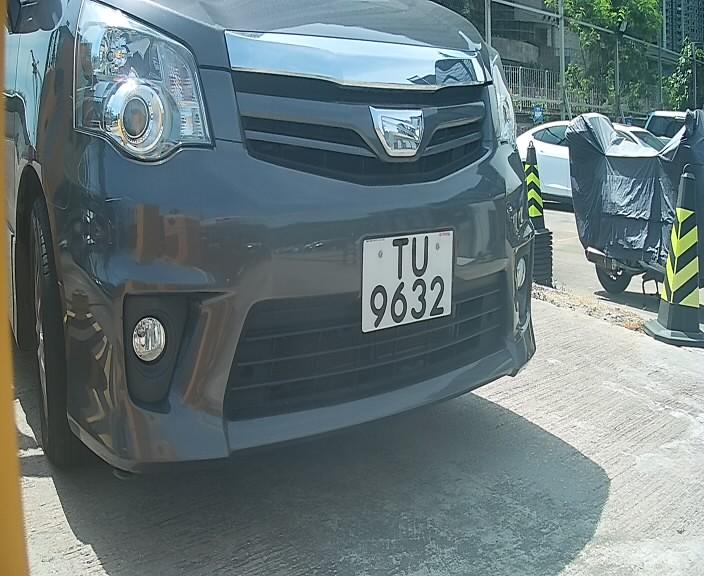Car: (7, 1, 560, 520)
License Plate: (356, 217, 459, 345)
